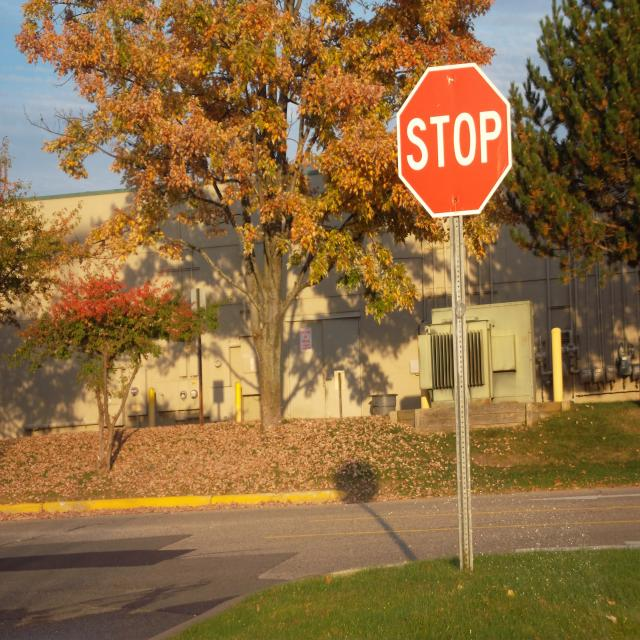stop: (397, 62, 512, 218)
